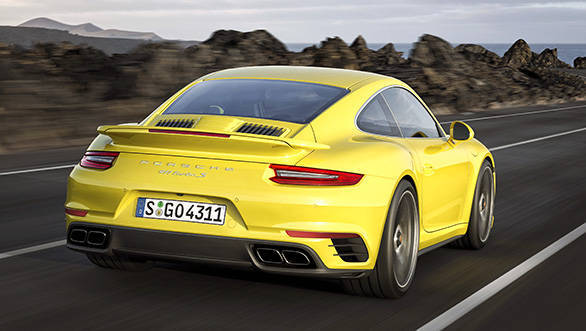number_plate: (133, 195, 232, 229)
